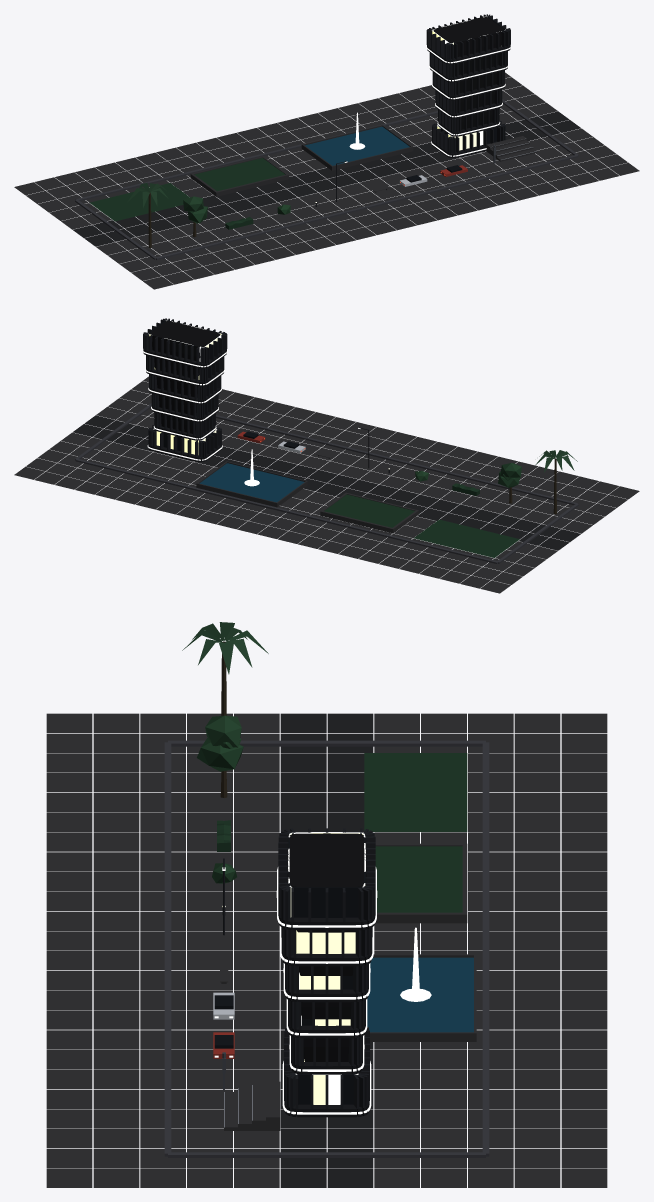
The model's file is _pipeline-kit.glb.
3 renders of one model, top to bottom at view 1: azimuth 30°, elevation 25°; view 2: azimuth 150°, elevation 25°; view 3: azimuth 270°, elevation 25°, orthographic. The views are drawn at different scales.
Visible parts, largest first — view 1: SITE_PAVING, KIT_SUPERELLIPSE, SITE_KERB, SITE_BASIN, PROP_PLANTER, GROUND_COVER, SITE_STEPS, PROP_PALM, PROP_TREE; view 2: SITE_PAVING, KIT_SUPERELLIPSE, SITE_KERB, SITE_BASIN, PROP_PLANTER, GROUND_COVER, PROP_PALM, PROP_TREE; view 3: SITE_PAVING, KIT_SUPERELLIPSE, SITE_KERB, SITE_BASIN, GROUND_COVER, PROP_PLANTER, SITE_STEPS, PROP_TREE, PROP_PALM.
Part boxes in pixels (x1,y1,x2,y2): SITE_PAVING: (14,72,639,289); KIT_SUPERELLIPSE: (426,14,511,157); SITE_KERB: (75,99,578,259); SITE_BASIN: (301,124,413,170); PROP_PLANTER: (190,156,289,196); GROUND_COVER: (89,183,189,221); SITE_STEPS: (486,136,536,161); PROP_PALM: (128,183,168,247); PROP_TREE: (183,196,207,237); SITE_PAVING: (14,376,639,593); KIT_SUPERELLIPSE: (142,318,227,461); SITE_KERB: (75,403,578,563); SITE_BASIN: (196,461,307,507); PROP_PLANTER: (320,492,418,533); GROUND_COVER: (414,519,519,557); PROP_PALM: (535,450,577,514); PROP_TREE: (498,463,521,503); SITE_PAVING: (46,713,607,1187); KIT_SUPERELLIPSE: (276,828,377,1117); SITE_KERB: (164,740,489,1157); SITE_BASIN: (367,954,476,1041); GROUND_COVER: (364,753,467,831); PROP_PLANTER: (375,843,467,923); SITE_STEPS: (224,1081,280,1130); PROP_TREE: (197,715,243,797); PROP_PALM: (182,622,268,715).
Bounding box in the file's own units: 240 × 54 × 120.
